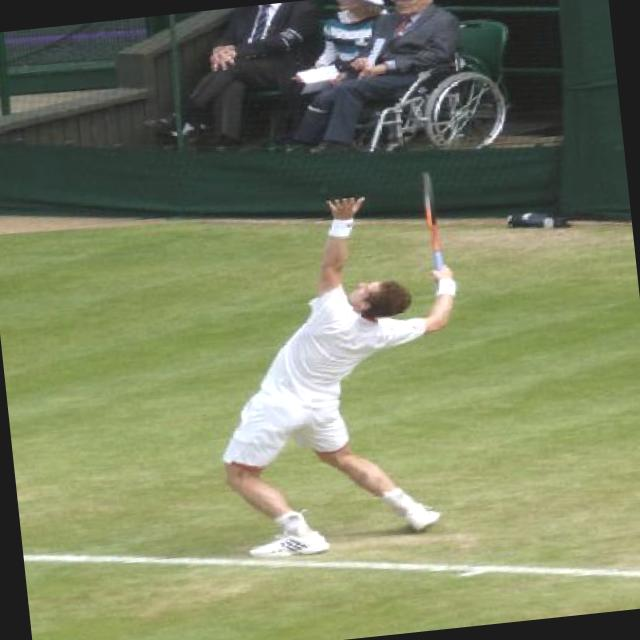Person: (196, 183, 493, 564), (263, 0, 486, 158), (153, 1, 344, 157), (288, 0, 394, 89)
